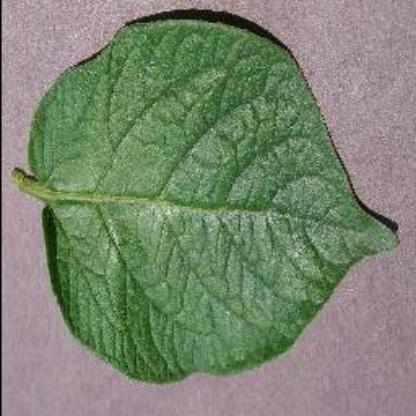Healthy-plant: (18, 18, 406, 390)
